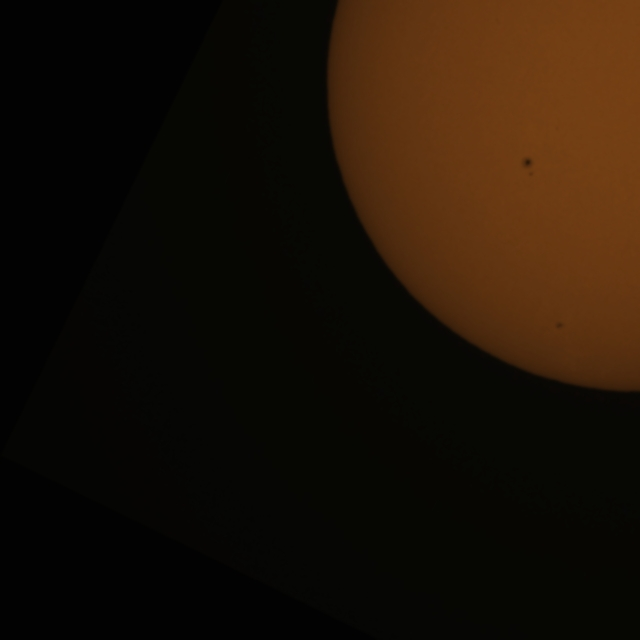sunspot: (520, 156, 536, 179), (554, 320, 564, 330)
